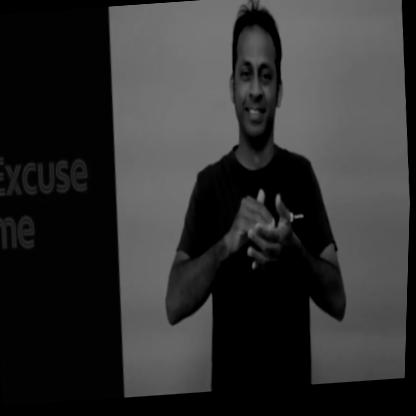ExcuseMe: (144, 0, 361, 379)
